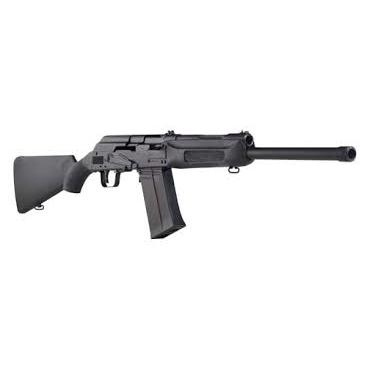larga: (12, 128, 357, 240)
